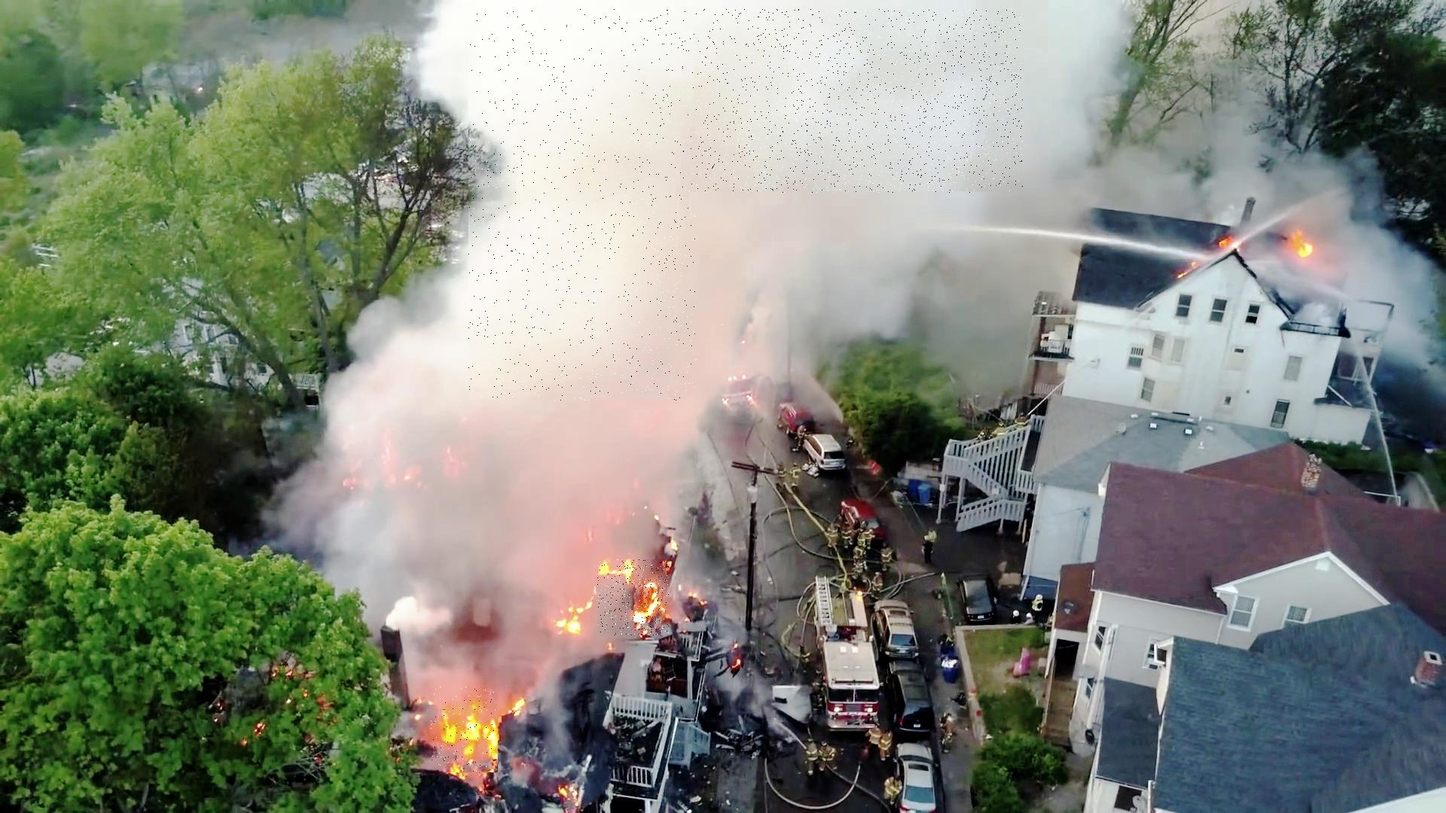fire: (431, 687, 498, 772), (598, 559, 669, 635)
smoke: (471, 10, 1023, 193), (469, 10, 697, 401)
